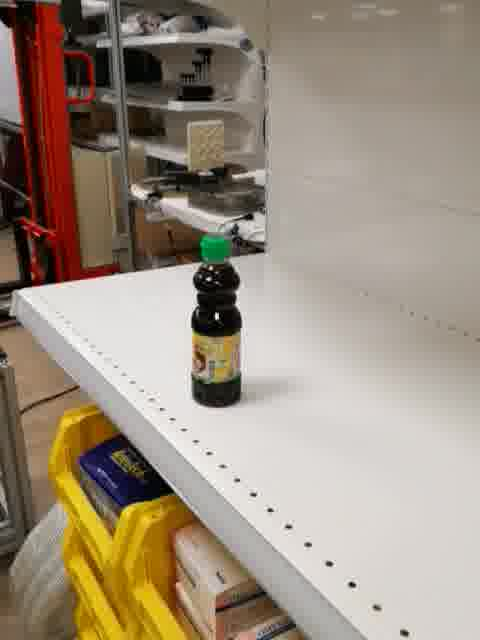cookingoil: (189, 233, 244, 411)
